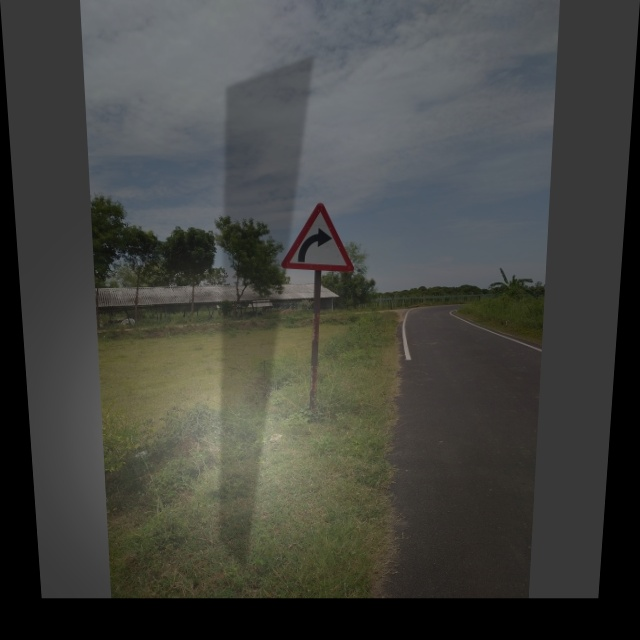Right_Hand_Curve: (281, 202, 352, 273)
